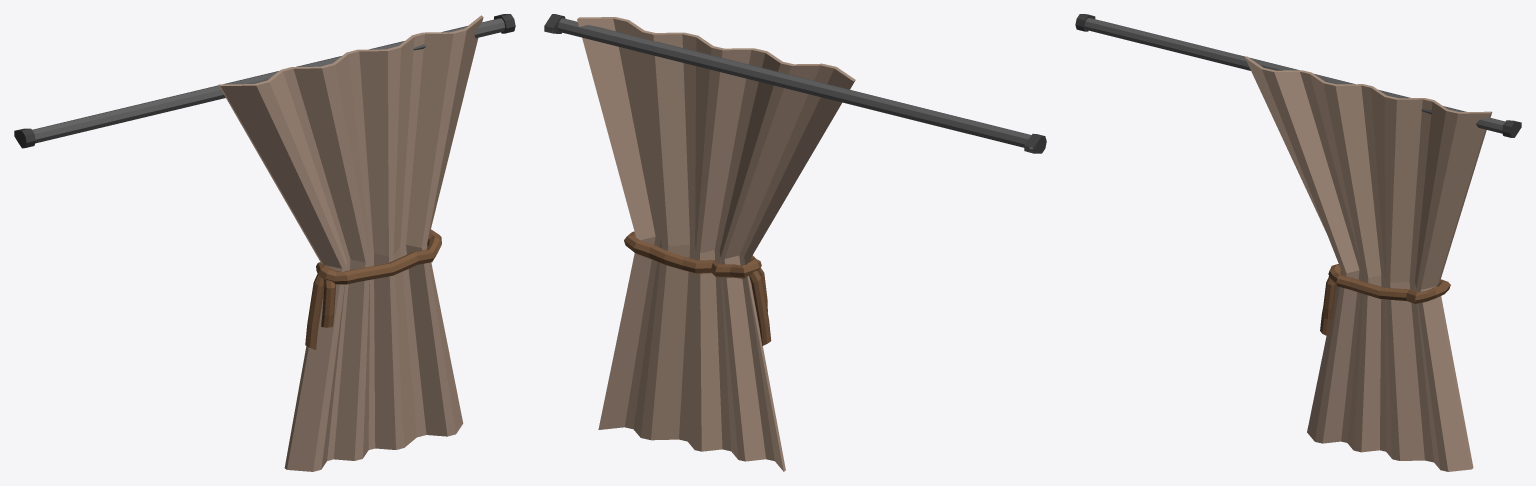
Rendered from Curtains_9.fbx.
3 renders of one model, left to right at view 1: azimuth 30°, elevation 25°; view 2: azimuth 150°, elevation 25°; view 3: azimuth 330°, elevation 25°, orthographic. The views are drawn at different scales.
Visible parts, largest first — view 1: Curtains_9; view 2: Curtains_9; view 3: Curtains_9.
Boxes of the visible parts, x1,y1,x2,y2 form: Curtains_9: (14,14,515,471); Curtains_9: (544,14,1046,471); Curtains_9: (1075,14,1521,471).
Size of the model in its own units: 410 by 41.23 by 323.
